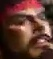ryu: (3, 0, 52, 58)
